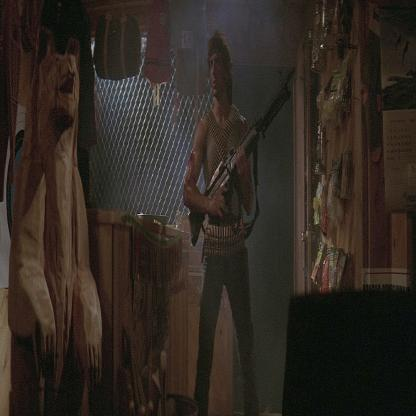gun: (184, 69, 304, 267)
